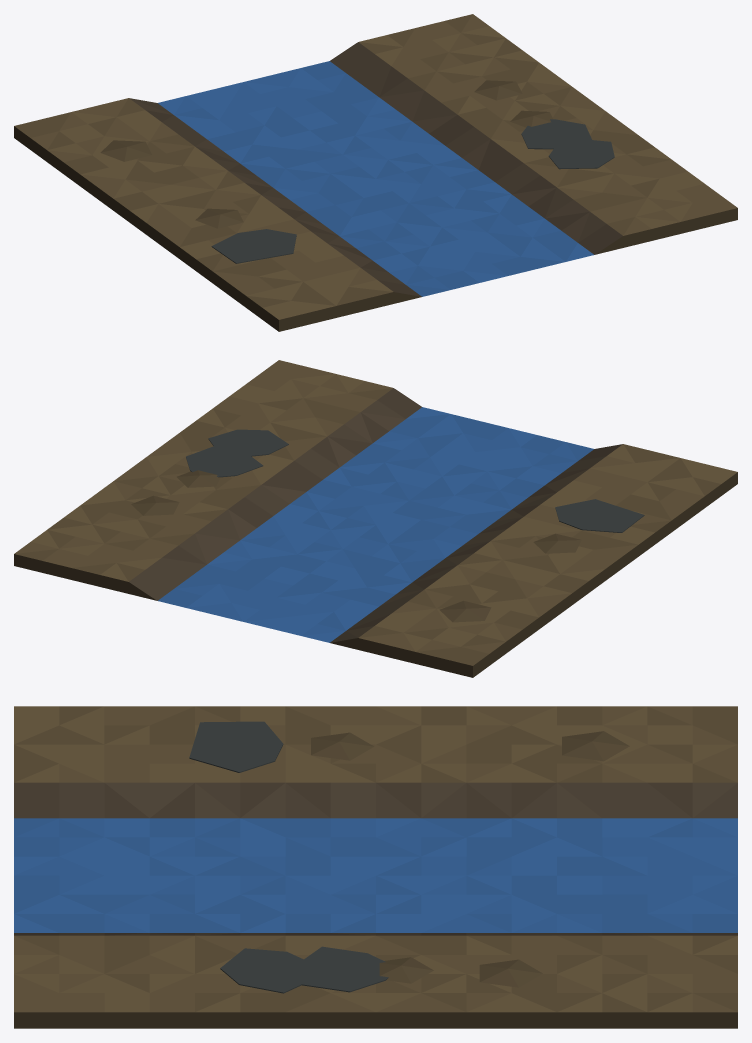
The model's file is river_straight_mud.glb.
The picture shows the model from 3 angles, top to bottom: view 1: azimuth 30°, elevation 25°; view 2: azimuth 150°, elevation 25°; view 3: azimuth 270°, elevation 25°; orthographic projection. The views are drawn at different scales.
Visible parts, largest first — view 1: river_straight_mud; view 2: river_straight_mud; view 3: river_straight_mud.
Part boxes in pixels (bbox=[...]): river_straight_mud: bbox=[14, 14, 737, 331]; river_straight_mud: bbox=[14, 360, 737, 677]; river_straight_mud: bbox=[14, 706, 737, 1028].
Bounding box in the file's own units: 4 × 0.13 × 4.
